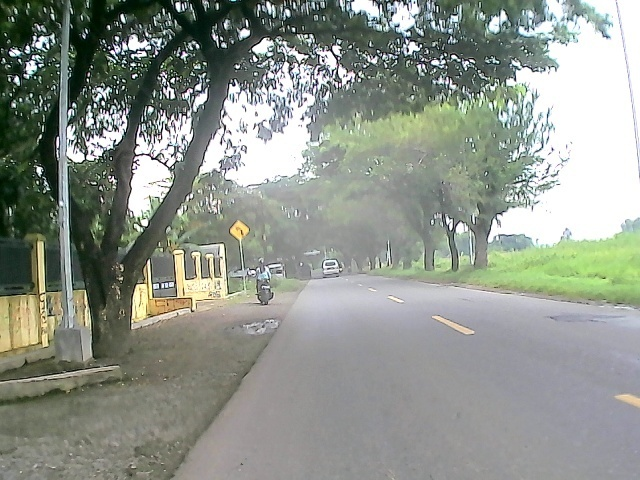Tikungan ke kiri: (229, 221, 251, 242)
